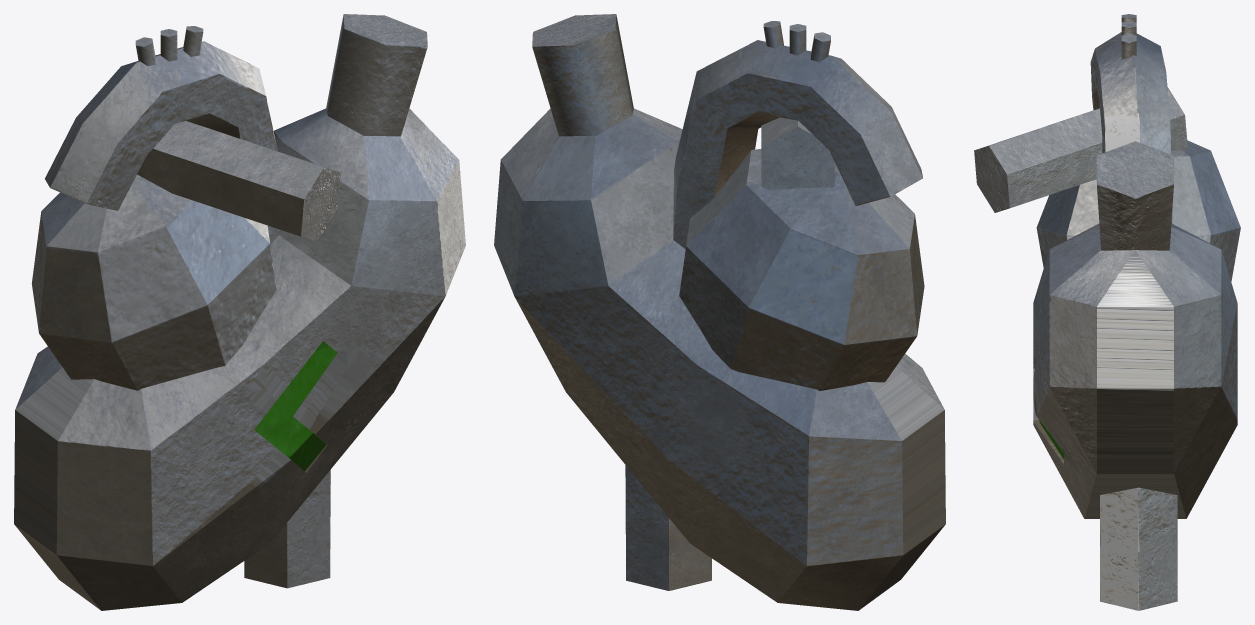
The model's file is Dash_Horus.fbx.
3 views of the same model, side by side, from view 1: azimuth 30°, elevation 25°; view 2: azimuth 150°, elevation 25°; view 3: azimuth 270°, elevation 25° (orthographic). The views are drawn at different scales.
Visible parts, largest first — view 1: Roll_Thoth's Knowledge; view 2: Roll_Thoth's Knowledge; view 3: Roll_Thoth's Knowledge.
Boxes of the visible parts, x1=… form: Roll_Thoth's Knowledge: x1=14, y1=14, x2=465, y2=610; Roll_Thoth's Knowledge: x1=494, y1=14, x2=945, y2=610; Roll_Thoth's Knowledge: x1=974, y1=14, x2=1240, y2=610.
Size of the model in its own units: 53.96 by 71.63 by 33.77.
Materials: 1 (1 with a texture image).
